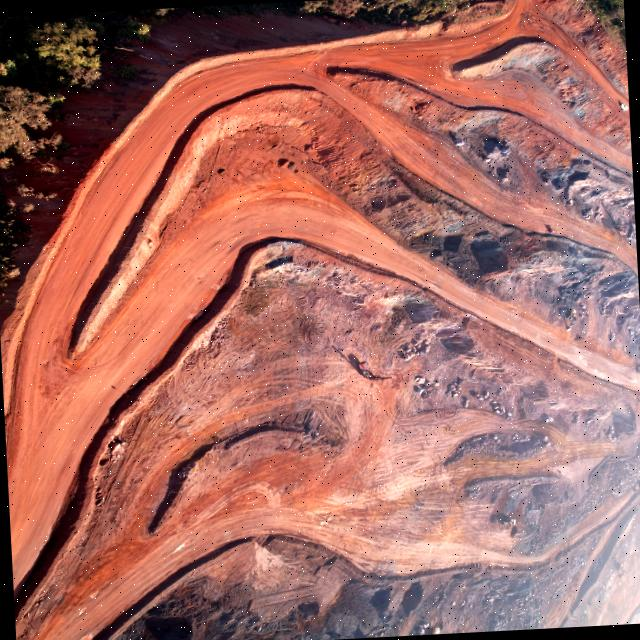Blast rig: (358, 359, 393, 381), (613, 222, 636, 234)
Excavator: (491, 514, 518, 526), (566, 308, 578, 330), (427, 625, 443, 635), (616, 561, 626, 576), (632, 478, 640, 491), (636, 366, 640, 375)
car: (616, 100, 630, 112)
